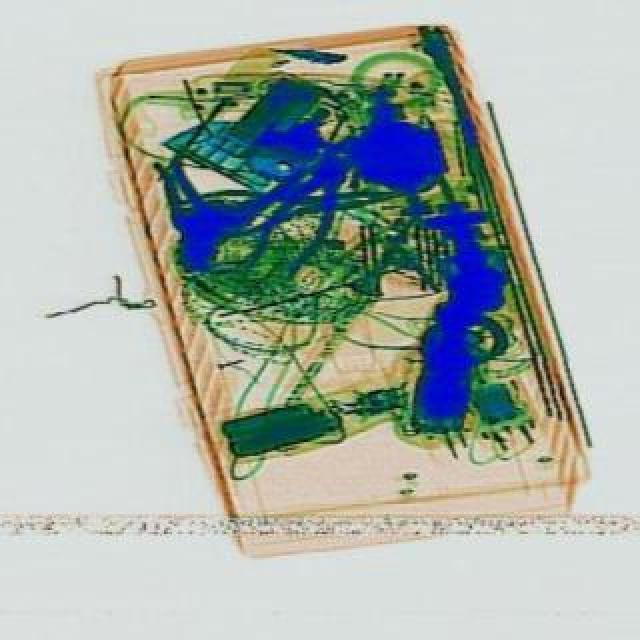wrench: (242, 142, 372, 300), (178, 170, 418, 246)
